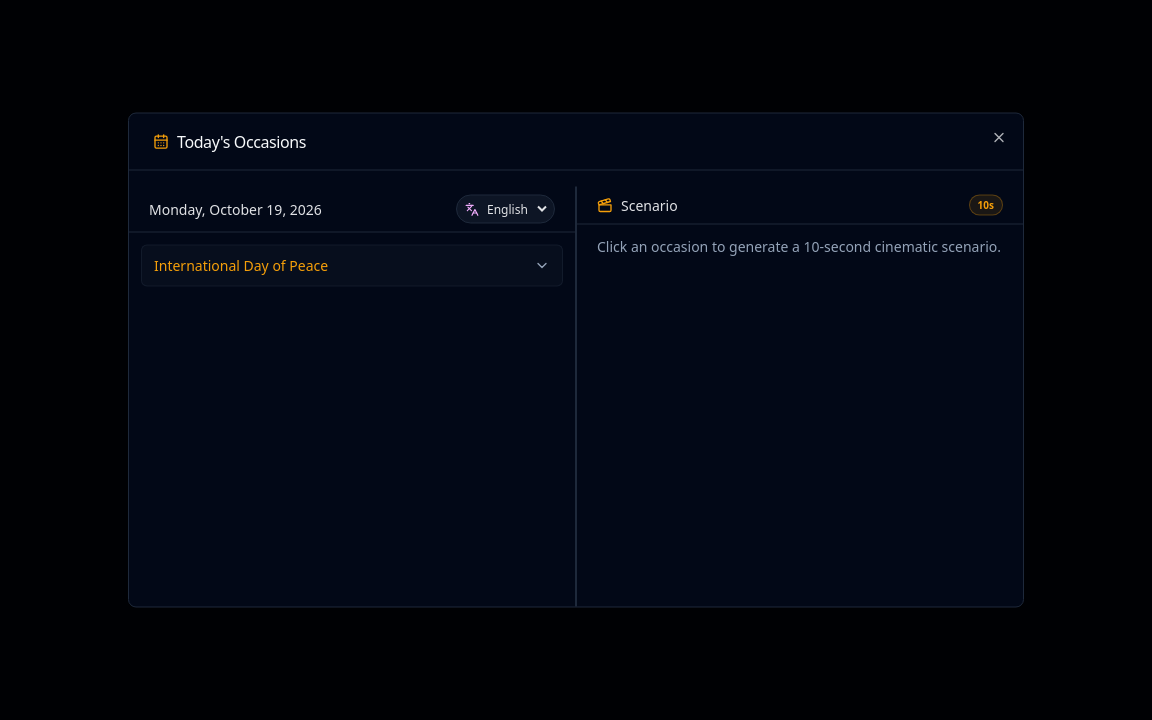
CalendarInfoDialog occasion detail › accepts the legacy date-mode response used by the deployed handler
The width and height of the screenshot is (1152, 720).
Click the button "International Day of Peace". click: {"x": 241, "y": 265}
box: [142, 246, 562, 286]
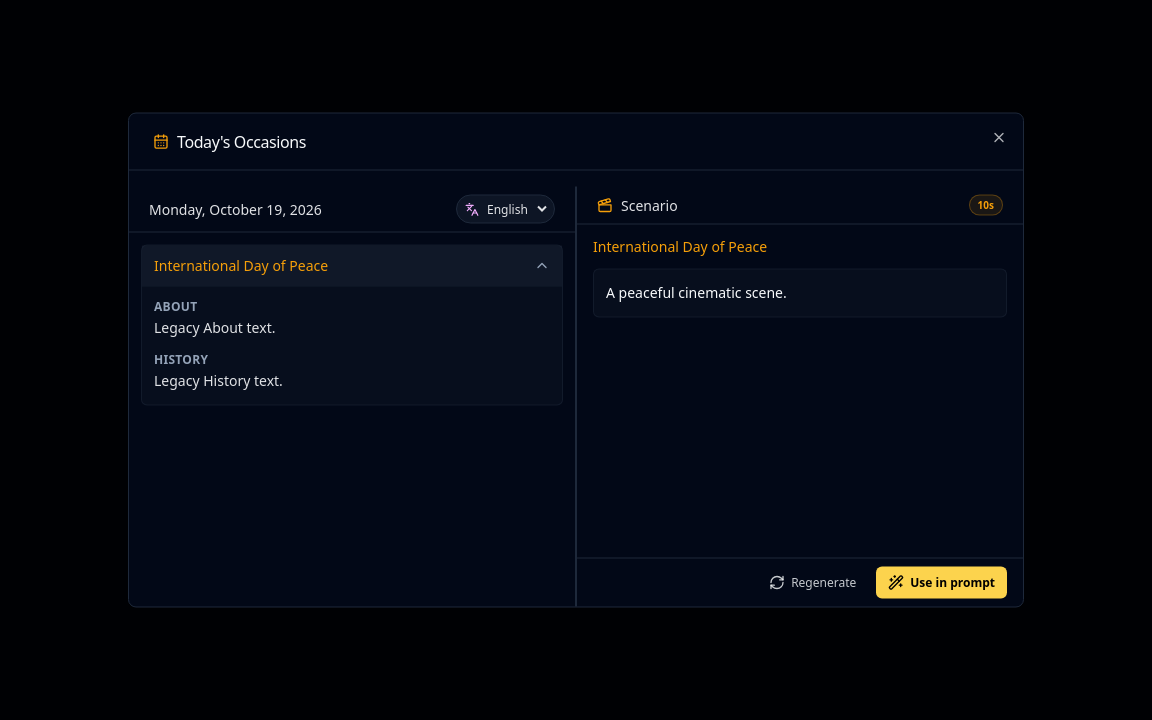
Result: the text "Legacy About text." is shown at [154, 318, 276, 336]
Result: the text "Legacy History text." is shown at [154, 370, 283, 389]
